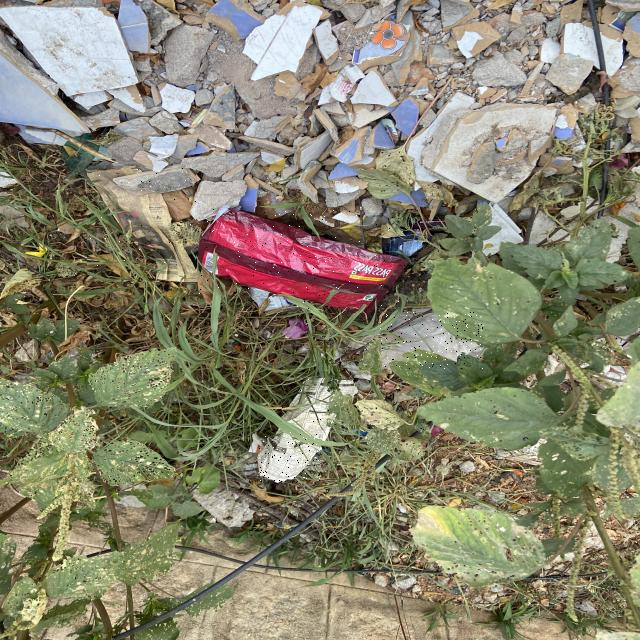paper: (88, 167, 196, 282), (258, 431, 320, 482), (282, 379, 332, 440), (339, 380, 356, 396)
plastic: (381, 312, 483, 368), (393, 310, 426, 327)
wrapper: (198, 209, 407, 312)
